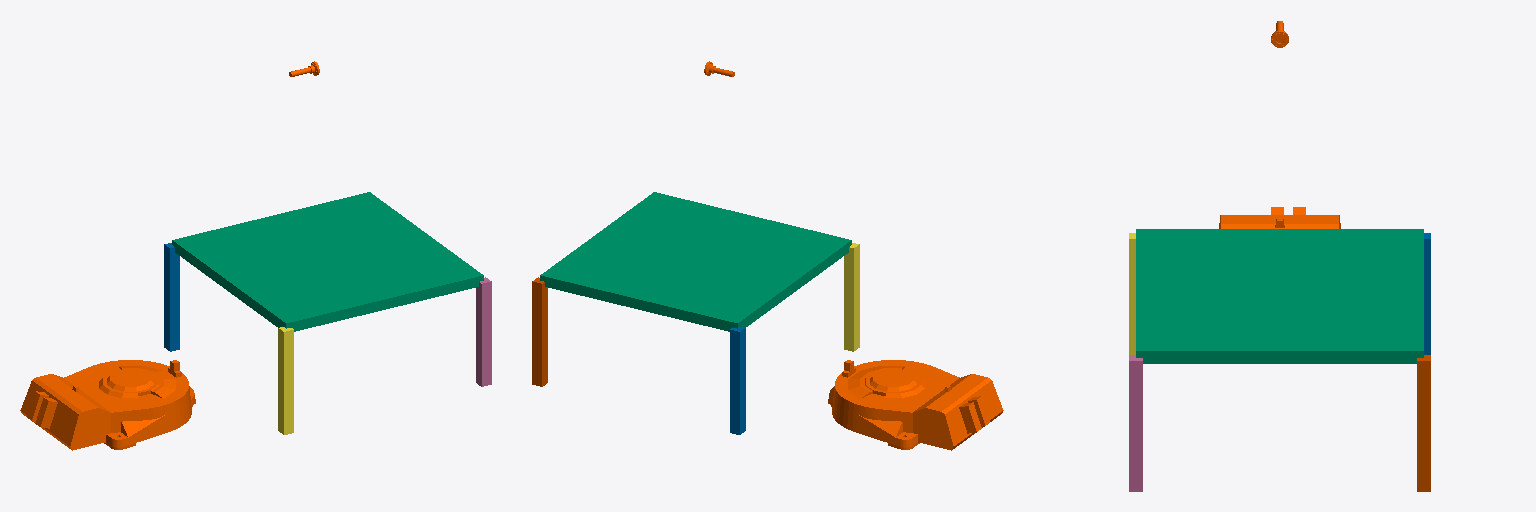
robot.urdf — workcell:
<?xml version="1.0" ?>
<!-- =================================================================================== -->
<!-- |    This document was autogenerated by xacro from urdf/workcell.xacro            | -->
<!-- |    EDITING THIS FILE BY HAND IS NOT RECOMMENDED                                 | -->
<!-- =================================================================================== -->
<robot name="workcell" xmlns:xacro="http://ros.org/wiki/xacro">
  <link name="world_frame"/>
  <link name="base_link">
    <visual>
      <origin rpy="0 0 0" xyz="0 0 0"/>
      <geometry>
        <mesh filename="package://abb_common/meshes/irb_2400/visual/base_link.STL"/>
      </geometry>
      <material name="abb_orange">
        <color rgba="1 0.43 0 1"/>
      </material>
    </visual>
    <collision>
      <geometry>
        <mesh filename="package://abb_common/meshes/irb_2400/collision/base_link.STL"/>
      </geometry>
      <material name="yellow">
        <color rgba="0 1 1 1"/>
      </material>
    </collision>
  </link>
  <link name="link_1">
    <visual>
      <origin rpy="0 0 0" xyz="0 0 0"/>
      <geometry>
        <mesh filename="package://abb_common/meshes/irb_2400/visual/link_1.STL"/>
      </geometry>
      <material name="abb_orange"/>
    </visual>
    <collision>
      <origin rpy="0 0 0" xyz="0 0 0"/>
      <geometry>
        <mesh filename="package://abb_common/meshes/irb_2400/collision/link_1.STL"/>
      </geometry>
      <material name="yellow"/>
    </collision>
  </link>
  <link name="link_2">
    <visual>
      <origin rpy="0 0 0" xyz="0 0 0"/>
      <geometry>
        <mesh filename="package://abb_common/meshes/irb_2400/visual/link_2.STL"/>
      </geometry>
      <material name="abb_orange"/>
    </visual>
    <collision>
      <origin rpy="0 0 0" xyz="0 0 0"/>
      <geometry>
        <mesh filename="package://abb_common/meshes/irb_2400/collision/link_2_whole.STL"/>
      </geometry>
      <material name="yellow"/>
    </collision>
  </link>
  <link name="link_3">
    <visual>
      <origin rpy="0 0 0" xyz="0 0 0"/>
      <geometry>
        <mesh filename="package://abb_common/meshes/irb_2400/visual/link_3.STL"/>
      </geometry>
      <material name="abb_orange"/>
    </visual>
    <collision>
      <origin rpy="0 0 0" xyz="0 0 0"/>
      <geometry>
        <mesh filename="package://abb_common/meshes/irb_2400/collision/link_3.STL"/>
      </geometry>
      <material name="yellow"/>
    </collision>
  </link>
  <link name="link_4">
    <visual>
      <origin rpy="0 0 0" xyz="0 0 0"/>
      <geometry>
        <mesh filename="package://abb_common/meshes/irb_2400/visual/link_4.STL"/>
      </geometry>
      <material name="abb_orange"/>
    </visual>
    <collision>
      <origin rpy="0 0 0" xyz="0 0 0"/>
      <geometry>
        <mesh filename="package://abb_common/meshes/irb_2400/collision/link_4.STL"/>
      </geometry>
      <material name="yellow"/>
    </collision>
  </link>
  <link name="link_5">
    <visual>
      <origin rpy="0 0 0" xyz="0 0 0"/>
      <geometry>
        <mesh filename="package://abb_common/meshes/irb_2400/visual/link_5.STL"/>
      </geometry>
      <material name="abb_orange"/>
    </visual>
    <collision>
      <origin rpy="0 0 0" xyz="0 0 0"/>
      <geometry>
        <mesh filename="package://abb_common/meshes/irb_2400/collision/link_5.STL"/>
      </geometry>
      <material name="yellow"/>
    </collision>
  </link>
  <link name="link_6">
    <visual>
      <origin rpy="0 0 0" xyz="0 0 0"/>
      <geometry>
        <mesh filename="package://abb_common/meshes/irb_2400/visual/link_6.STL"/>
      </geometry>
      <material name="abb_orange"/>
    </visual>
    <collision>
      <origin rpy="0 0 0" xyz="0 0 0"/>
      <geometry>
        <mesh filename="package://abb_common/meshes/irb_2400/collision/link_6.STL"/>
      </geometry>
      <material name="yellow"/>
    </collision>
  </link>
  <link name="tool0"/>
  <joint name="joint_1" type="revolute">
    <origin rpy="0 0 0" xyz="0 0 0"/>
    <parent link="base_link"/>
    <child link="link_1"/>
    <axis xyz="0 0 1"/>
    <limit effort="0" lower="-3.1416" upper="3.1416" velocity="2.618"/>
    <calibration falling="0" rising="0"/>
    <dynamics damping="0" friction="0"/>
  </joint>
  <joint name="joint_2" type="revolute">
    <origin rpy="0 0 0" xyz="0.1 0 0.615"/>
    <parent link="link_1"/>
    <child link="link_2"/>
    <axis xyz="0 1 0"/>
    <limit effort="0" lower="-1.7453" upper="1.9199" velocity="2.618"/>
    <calibration falling="0" rising="0"/>
    <dynamics damping="0" friction="0"/>
  </joint>
  <joint name="joint_3" type="revolute">
    <origin rpy="0 0 0" xyz="0 0 0.705"/>
    <parent link="link_2"/>
    <child link="link_3"/>
    <axis xyz="0 1 0"/>
    <limit effort="0" lower="-1.0472" upper="1.1345" velocity="2.618"/>
    <calibration falling="0" rising="0"/>
    <dynamics damping="0" friction="0"/>
  </joint>
  <joint name="joint_4" type="revolute">
    <origin rpy="0 0 0" xyz="0.258 0 0.135"/>
    <parent link="link_3"/>
    <child link="link_4"/>
    <axis xyz="1 0 0"/>
    <limit effort="0" lower="-3.49" upper="3.49" velocity="6.2832"/>
    <calibration falling="0" rising="0"/>
    <dynamics damping="0" friction="0"/>
  </joint>
  <joint name="joint_5" type="revolute">
    <origin rpy="0 0 0" xyz="0.497 0 0"/>
    <parent link="link_4"/>
    <child link="link_5"/>
    <axis xyz="0 1 0"/>
    <limit effort="0" lower="-2.0944" upper="2.0944" velocity="6.2832"/>
    <calibration falling="0" rising="0"/>
    <dynamics damping="0" friction="0"/>
  </joint>
  <joint name="joint_6" type="revolute">
    <origin rpy="0 0 0" xyz="0.085 0 0"/>
    <parent link="link_5"/>
    <child link="link_6"/>
    <axis xyz="1 0 0"/>
    <limit effort="0" lower="-6.9813" upper="6.9813" velocity="7.854"/>
    <calibration falling="0" rising="0"/>
    <dynamics damping="0" friction="0"/>
  </joint>
  <joint name="joint_6-tool0" type="fixed">
    <parent link="link_6"/>
    <child link="tool0"/>
    <origin rpy="0 0 0" xyz="0 0 0"/>
  </joint>
  <joint name="world_to_robot" type="fixed">
    <parent link="world_frame"/>
    <child link="base_link"/>
    <origin rpy="0 0 0" xyz="0 0 0"/>
  </joint>
  <link name="table_base"/>
  <link name="table_top">
    <visual>
      <geometry>
        <box size="1.0 1.0 0.05"/>
      </geometry>
      <origin rpy="0 0 0" xyz="0 0 0"/>
    </visual>
  </link>
  <joint name="table_top" type="fixed">
    <parent link="table_base"/>
    <child link="table_top"/>
    <origin rpy="0 0 0" xyz="0 0 0.5"/>
  </joint>
  <link name="table_leg_1">
    <visual>
      <geometry>
        <box size="0.05 0.05 0.5"/>
      </geometry>
      <origin rpy="0 0 0" xyz="0 0 0"/>
    </visual>
  </link>
  <joint name="table_leg_1" type="fixed">
    <parent link="table_base"/>
    <child link="table_leg_1"/>
    <origin rpy="0 0 0" xyz="-0.5 -0.5 0.25"/>
  </joint>
  <link name="table_leg_2">
    <visual>
      <geometry>
        <box size="0.05 0.05 0.5"/>
      </geometry>
      <origin rpy="0 0 0" xyz="0 0 0"/>
    </visual>
  </link>
  <joint name="table_leg_2" type="fixed">
    <parent link="table_base"/>
    <child link="table_leg_2"/>
    <origin rpy="0 0 0" xyz="-0.5 0.5 0.25"/>
  </joint>
  <link name="table_leg_3">
    <visual>
      <geometry>
        <box size="0.05 0.05 0.5"/>
      </geometry>
      <origin rpy="0 0 0" xyz="0 0 0"/>
    </visual>
  </link>
  <joint name="table_leg_3" type="fixed">
    <parent link="table_base"/>
    <child link="table_leg_3"/>
    <origin rpy="0 0 0" xyz="0.5 0.5 0.25"/>
  </joint>
  <link name="table_leg_4">
    <visual>
      <geometry>
        <box size="0.05 0.05 0.5"/>
      </geometry>
      <origin rpy="0 0 0" xyz="0 0 0"/>
    </visual>
  </link>
  <joint name="table_leg_4" type="fixed">
    <parent link="table_base"/>
    <child link="table_leg_4"/>
    <origin rpy="0 0 0" xyz="0.5 -0.5 0.25"/>
  </joint>
  <joint name="world_to_table" type="fixed">
    <parent link="world_frame"/>
    <child link="table_base"/>
    <origin rpy="0 0 0" xyz="1.0 0 0"/>
  </joint>
</robot>

--- Facts derived from the render (not from the file) ---
Views: 3 orthographic renders of the robot side by side, from view 1: azimuth 30°, elevation 25°; view 2: azimuth 150°, elevation 25°; view 3: azimuth 270°, elevation 25°.
Robot: workcell — 15 links, 14 joints (6 revolute, 8 fixed); root link world_frame; default pose: every joint at zero.
Links seen in each view (by area): view 1: table_top, base_link, table_leg_1, table_leg_4, table_leg_2; view 2: table_top, base_link, table_leg_2, table_leg_3, table_leg_1; view 3: table_top, base_link, table_leg_3, table_leg_4, table_leg_1, table_leg_2.
Boxes of the visible links, x1,y1,x2,y2 form: table_top: (172, 192, 483, 331); base_link: (20, 360, 195, 450); table_leg_1: (278, 327, 293, 434); table_leg_4: (476, 277, 491, 386); table_leg_2: (164, 243, 179, 351); table_top: (540, 192, 851, 331); base_link: (828, 360, 1003, 450); table_leg_2: (730, 327, 745, 434); table_leg_3: (532, 277, 547, 386); table_leg_1: (844, 243, 859, 351); table_top: (1136, 229, 1423, 363); base_link: (1219, 207, 1340, 228); table_leg_3: (1417, 355, 1430, 491); table_leg_4: (1129, 355, 1142, 491); table_leg_1: (1129, 233, 1135, 354); table_leg_2: (1424, 233, 1430, 354).
Size in the robot's own frame: 2 by 1.05 by 1.49 metres.
Meshes: 7 distinct files referenced, 2 mesh visuals loaded (2 binary STL); not drawn: 5 (reference not matched to a file when rendering).